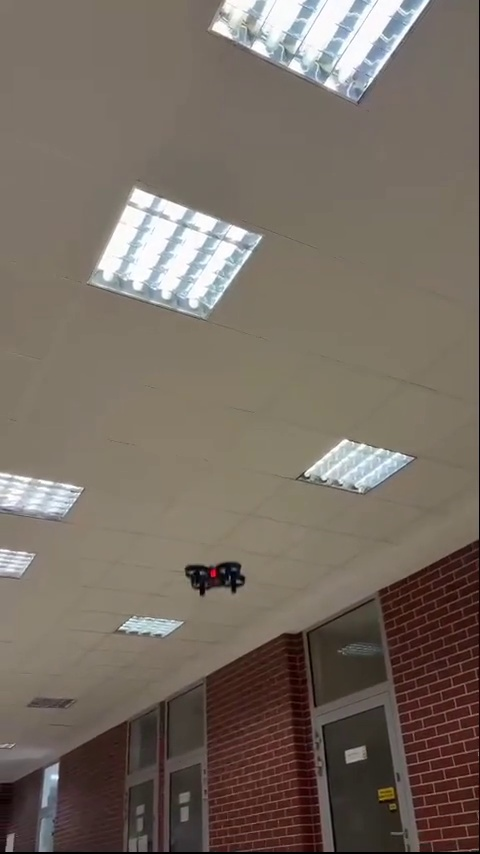drone: (182, 562, 248, 596)
